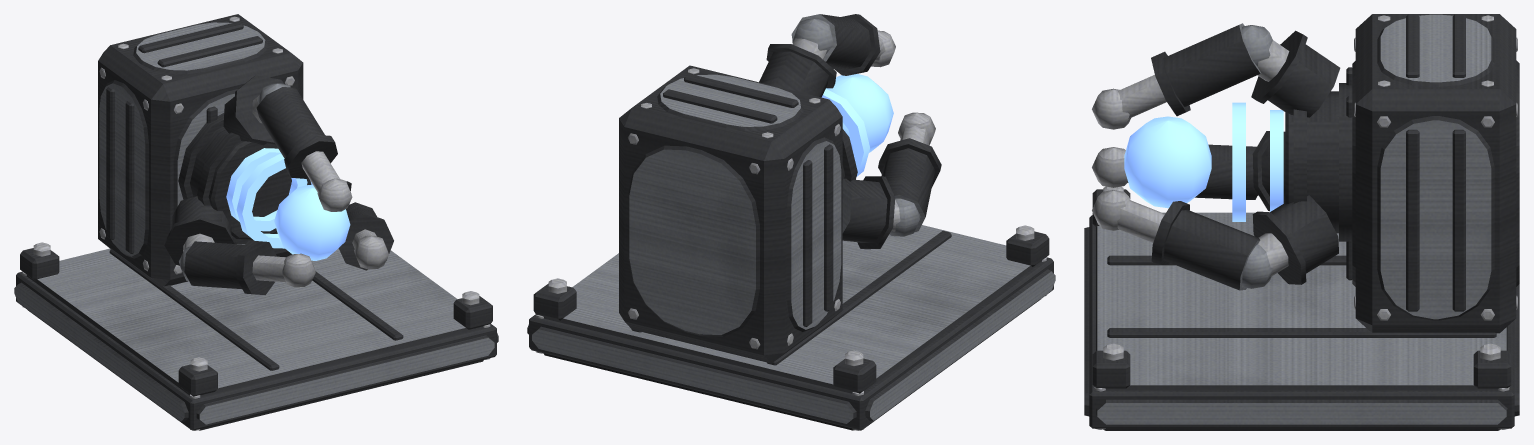
The model's file is R4X_DirectionalEMP.glb.
3 views of the same model, side by side, from view 1: azimuth 30°, elevation 25°; view 2: azimuth 150°, elevation 25°; view 3: azimuth 270°, elevation 25° (orthographic). The views are drawn at different scales.
Parts seen in each view (by area): view 1: R4X_DirectionalEMP_Body; view 2: R4X_DirectionalEMP_Body; view 3: R4X_DirectionalEMP_Body.
Boxes of the visible parts, <box> form: R4X_DirectionalEMP_Body: <box>14,14,498,430</box>; R4X_DirectionalEMP_Body: <box>527,14,1055,430</box>; R4X_DirectionalEMP_Body: <box>1084,14,1519,430</box>.
Size of the model in its own units: 0.52 by 0.421 by 0.52.
Materials: 4 (3 with a texture image).
